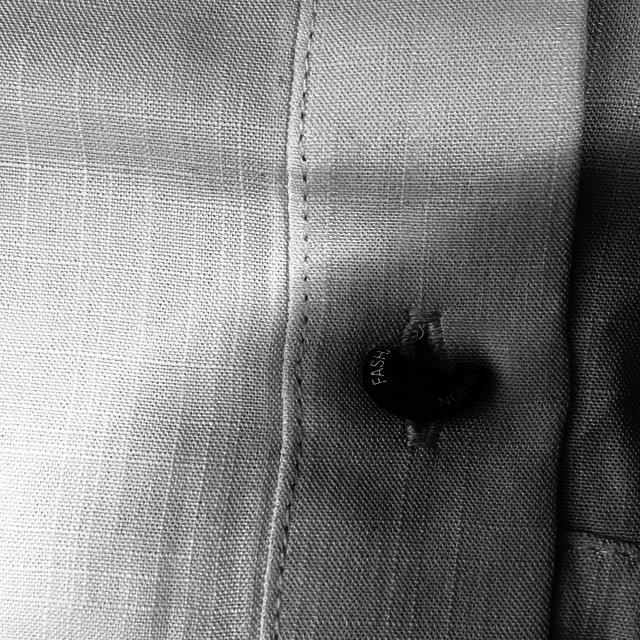Broken_button: (349, 321, 496, 444)
